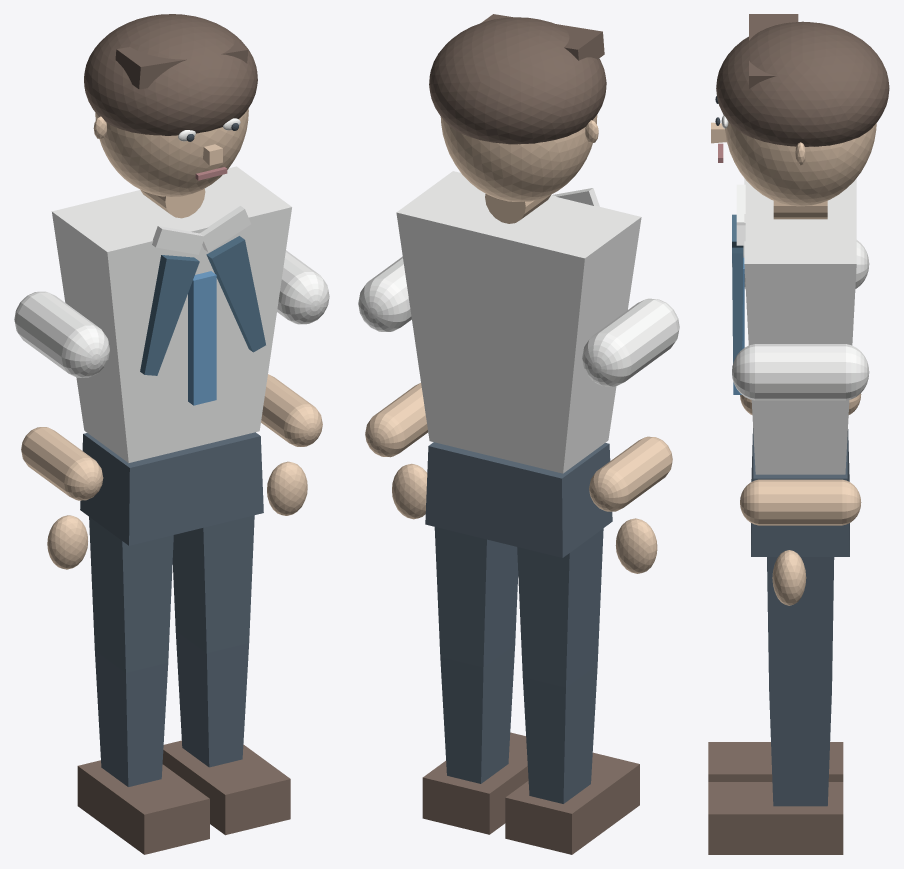
File: npc_staff.glb
The picture shows the model from 3 angles, left to right: view 1: azimuth 30°, elevation 25°; view 2: azimuth 150°, elevation 25°; view 3: azimuth 270°, elevation 25°; orthographic projection.
Visible parts, largest first — view 1: Torso, Hair, Hips, Thigh_L, Thigh_R, Shoe_L, Calf_L, Calf_R, Shoe_R, Head, Arm_L_Mesh, Forearm_L_Mesh (+11 smaller); view 2: Torso, Hair, Hips, Thigh_L, Thigh_R, Calf_R, Calf_L, Shoe_L, Head, Shoe_R, Arm_L_Mesh, Forearm_L_Mesh (+6 smaller); view 3: Torso, Hair, Shoe_R, Thigh_R, Arm_R_Mesh, Head, Calf_R, Forearm_R_Mesh, Hips, Shoe_L, Hand_R_Mesh, Lapel0.1 (+4 smaller).
Part boxes in pixels (x1,y1,x2,y2): Torso: (51,166,291,462); Hair: (84,14,257,135); Hips: (80,432,263,545); Thigh_L: (89,517,173,672); Thigh_R: (172,515,254,652); Shoe_L: (77,760,209,854); Calf_L: (95,650,168,786); Calf_R: (175,631,248,767); Shoe_R: (162,740,290,835); Head: (95,108,248,196); Arm_L_Mesh: (14,291,109,377); Forearm_L_Mesh: (21,427,103,500); Torso: (396,171,641,473); Hair: (429,17,606,144); Hips: (425,442,612,557); Thigh_L: (517,528,603,687); Thigh_R: (434,527,518,667); Calf_R: (440,644,515,783); Calf_L: (522,665,597,803); Shoe_L: (505,752,639,854); Head: (440,115,597,201); Shoe_R: (422,732,528,834); Arm_L_Mesh: (582,298,679,386); Forearm_L_Mesh: (589,436,672,511); Torso: (744,178,856,474); Hair: (716,21,889,146); Shoe_R: (708,782,843,854); Thigh_R: (767,557,834,690); Arm_R_Mesh: (732,344,869,400); Head: (725,122,876,206); Calf_R: (769,690,831,806); Forearm_R_Mesh: (740,479,861,525); Hips: (751,428,849,556); Shoe_L: (708,742,843,781); Hand_R_Mesh: (772,550,806,605); Lapel0.1: (732,247,743,363).
Bounding box in the file's own units: 0.6909 × 1.93 × 0.403.
